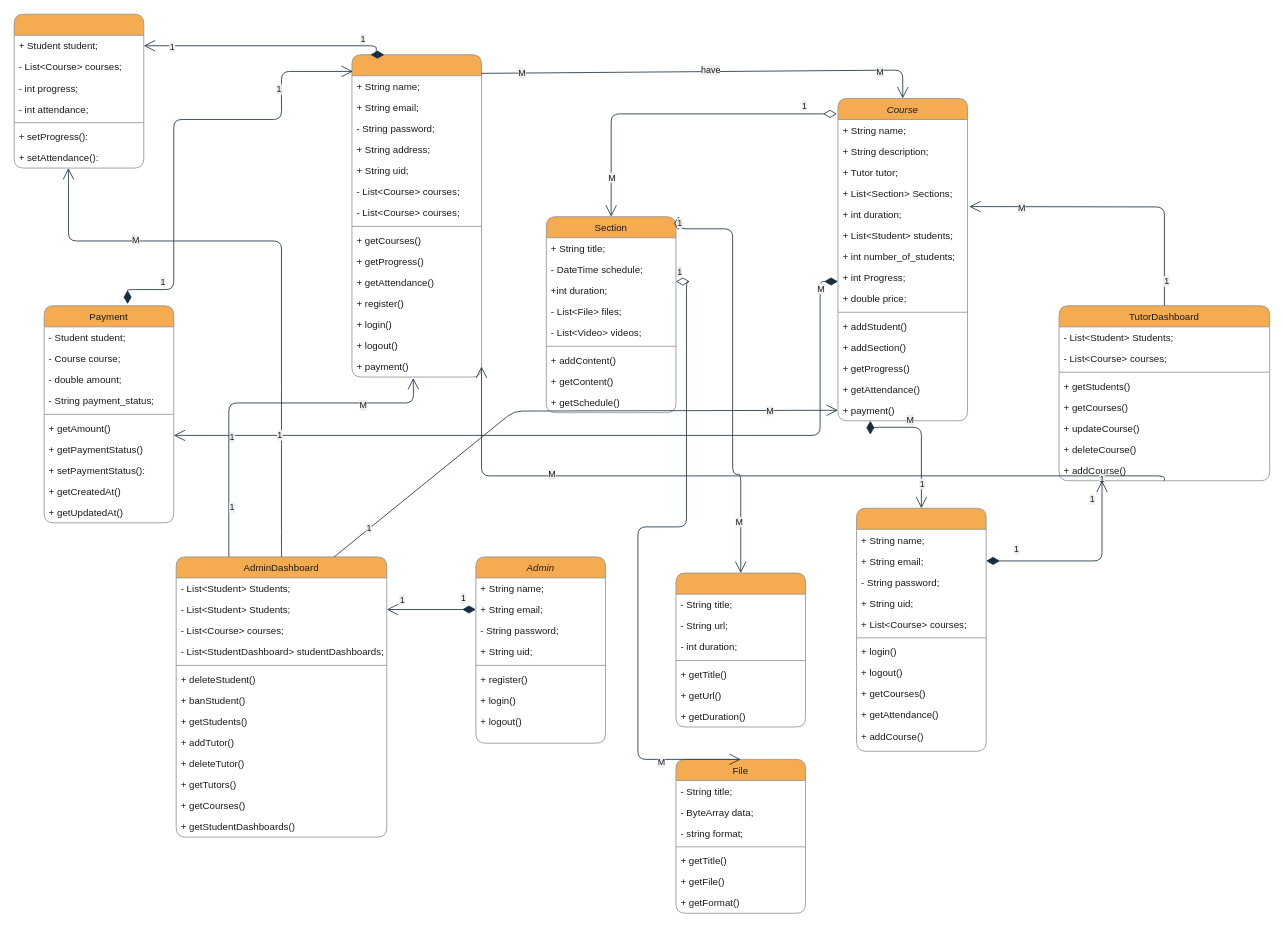
Some shapes in this 1284 by 930 pixel diagram are drawn without their labels. The shapes that lost their labels are listed below. From the top down, each one's box as (x1, y1, x2, y2) in pixels, then its label:
(13, 13, 144, 168): StudentDashboard
(351, 54, 482, 377): Student
(856, 507, 986, 751): Tutor
(675, 572, 806, 727): Video
